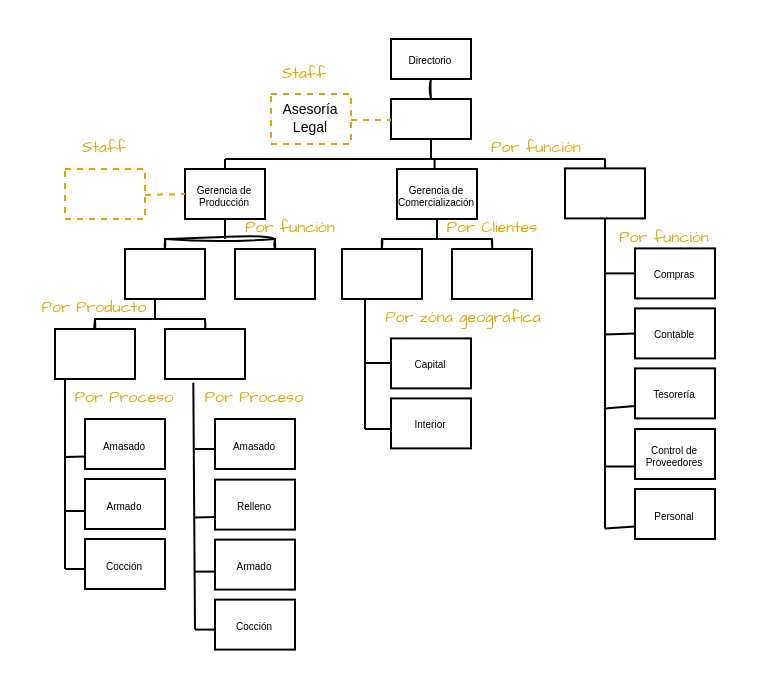
This 758x686 diagram has some shape labels left out. The shapes that lost their labels are listed below. From the top down, each one's centre as x and y in pixels, then its label:
(x=430, y=118): Gerencia General
(x=104, y=193): Ing. en Alimentos
(x=604, y=192): Gerencia de Administración
(x=164, y=273): Fabricación
(x=274, y=273): Control de Caalidad
(x=381, y=273): Venta Minorista
(x=491, y=273): Venta Mayorista
(x=94, y=353): Pizzas
(x=204, y=353): Empanadas
